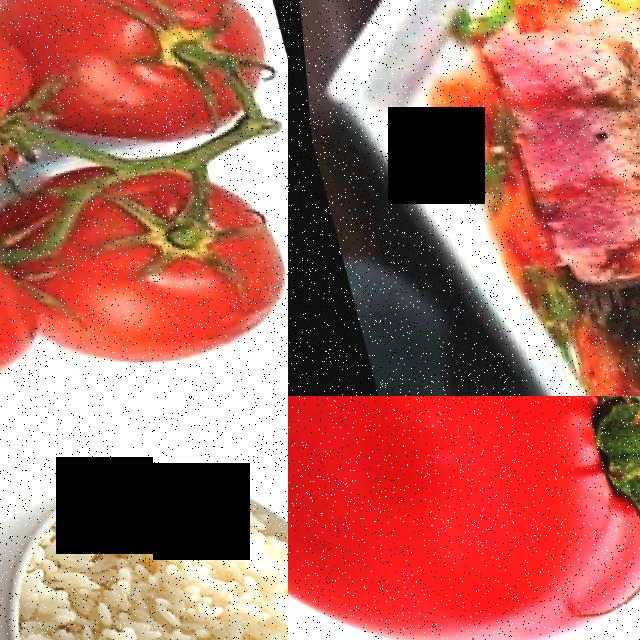tomato: (288, 396, 640, 640), (0, 114, 288, 389), (0, 0, 288, 162)
white rice: (0, 430, 288, 640)
